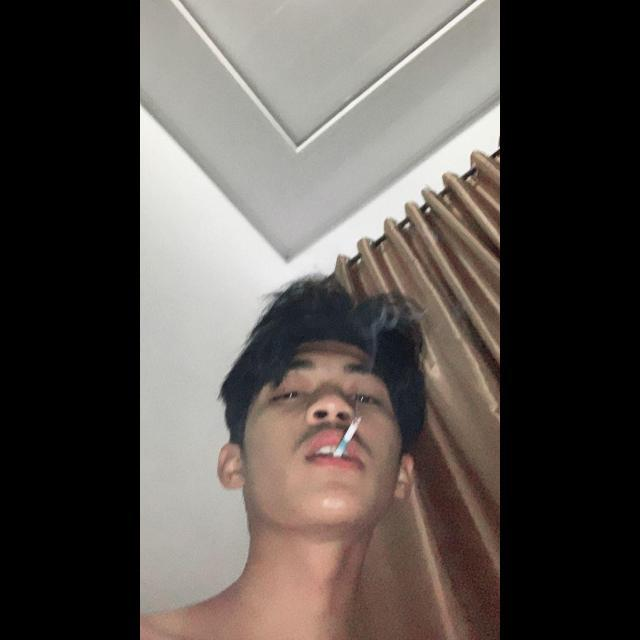rokok: (325, 408, 365, 466)
